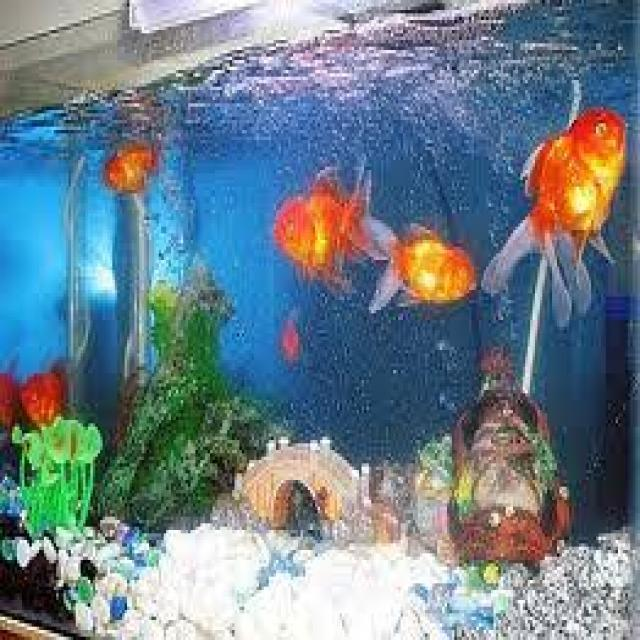goldfish: (506, 102, 622, 298), (352, 210, 498, 326)
